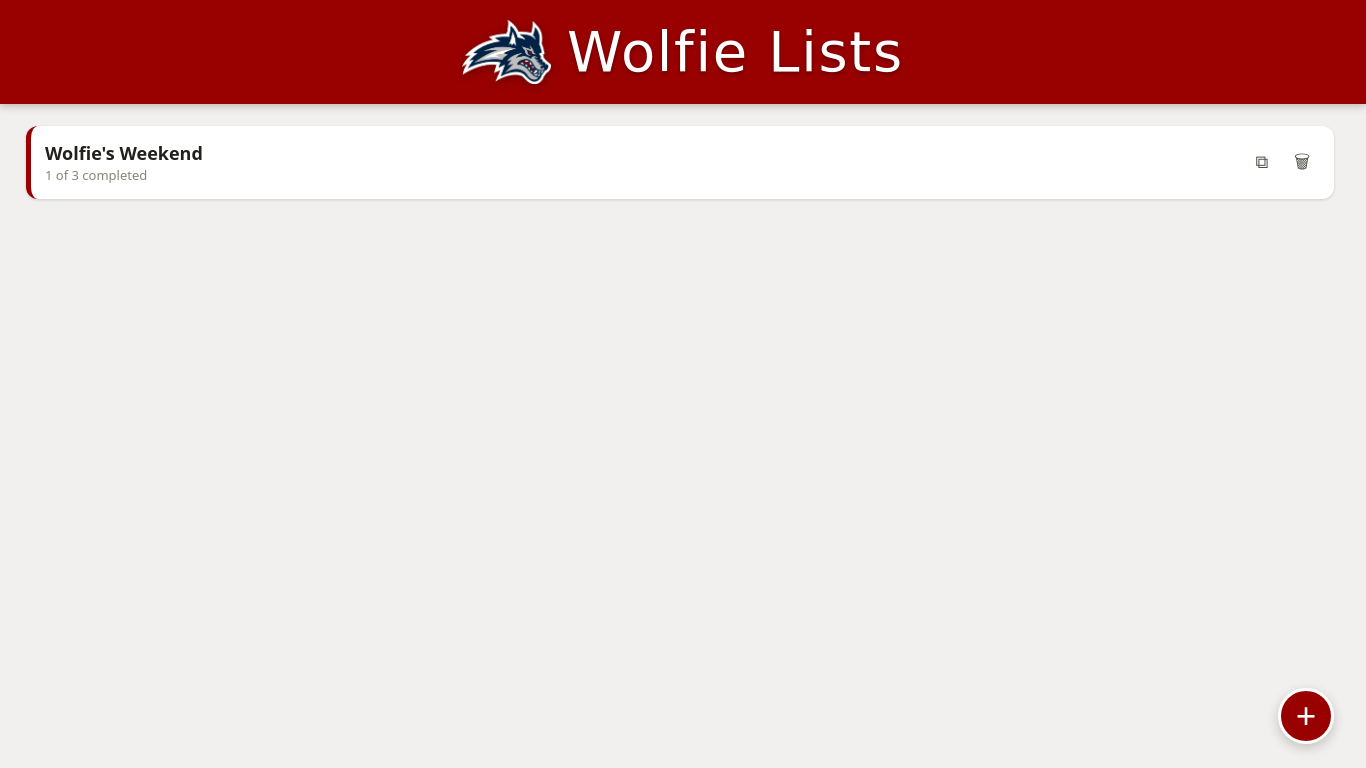
Scenario: drawing the items › shows one card per item, in order
Click the button with aria-label "Open the list named Wolfie".
click(124, 153)  # box [26,126,1334,199]
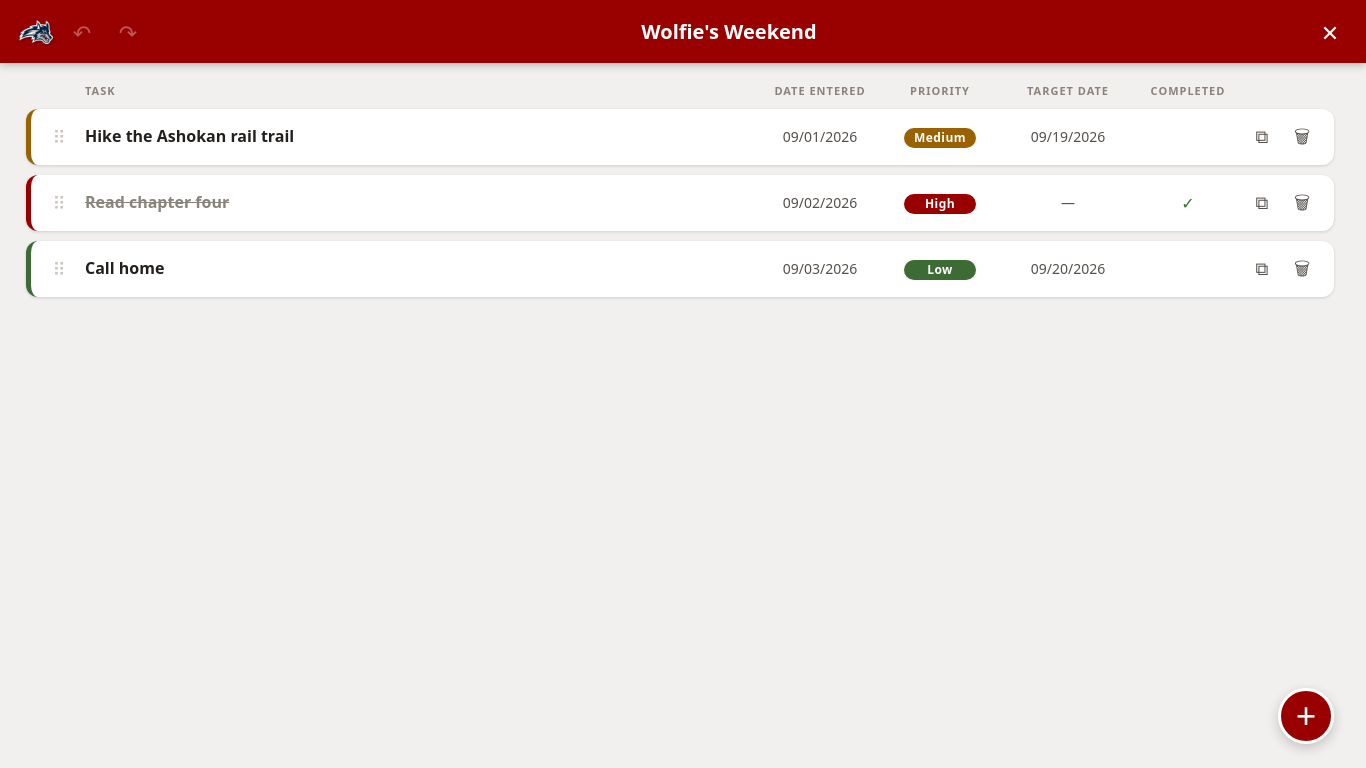
Expected: the field named "The name of this list" is shown, [473,10,985,53]
